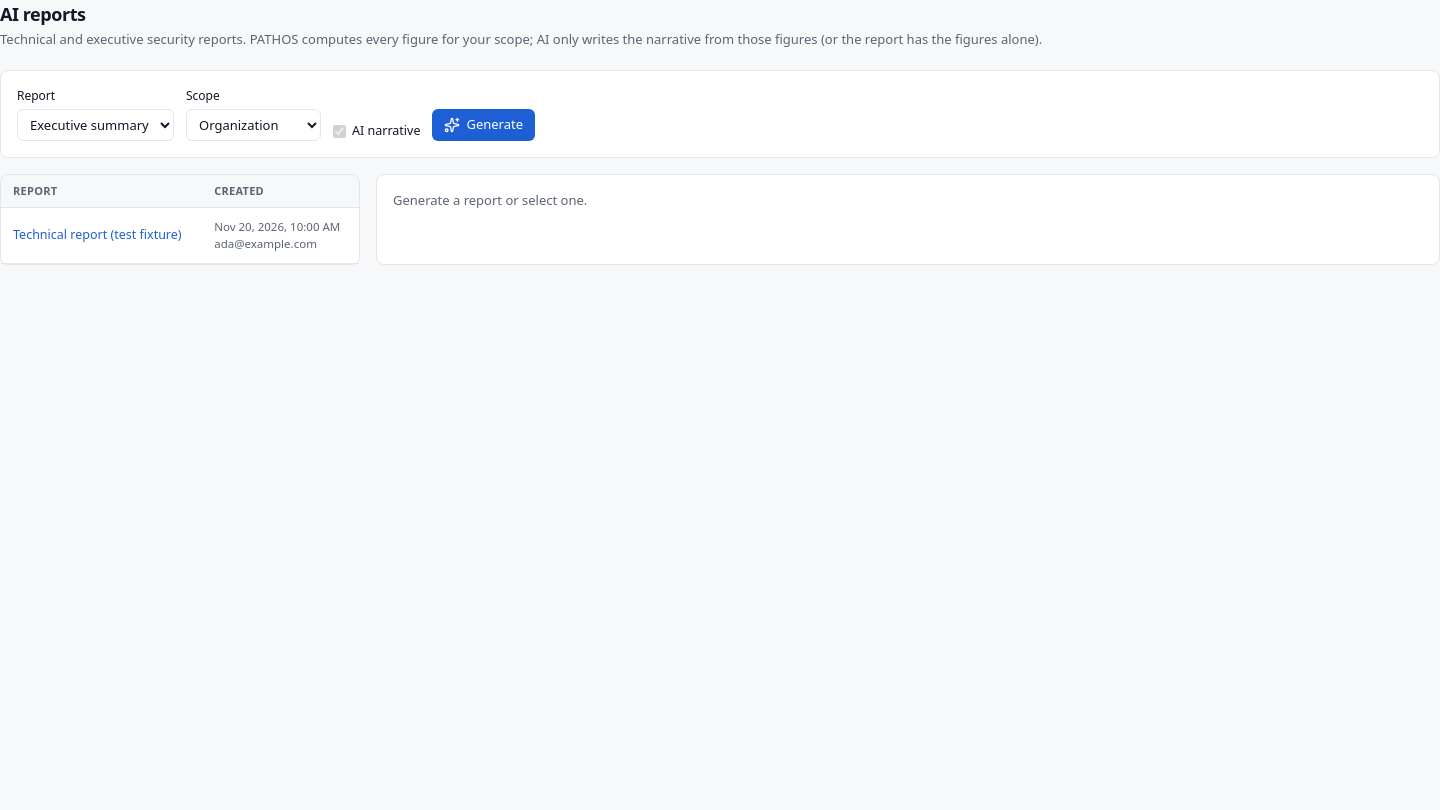
it: technical AI report lifecycle facts › renders facts.lifecycle for a technical report
Click the button "Technical report (test fixture)". click: coordinates (97, 236)
box: [13,226,182,245]
(page scrolled)
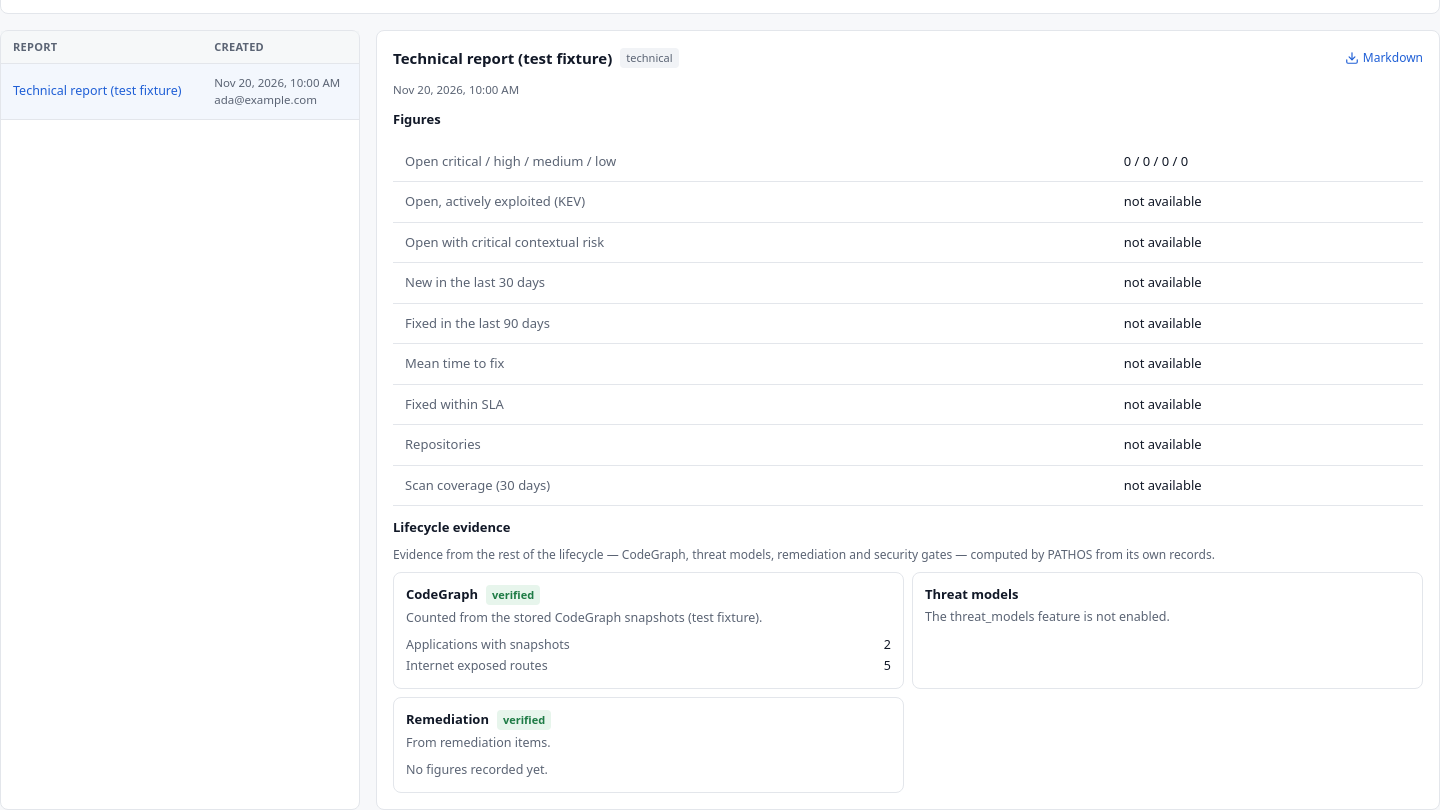
Expected: the element "Lifecycle evidence" is shown, [393,518,1423,793]
Expected: the number of elements with test id "lifecycle-evidence-section" is 3, [393,572,904,689]; [912,572,1423,689]; [393,696,904,792]
